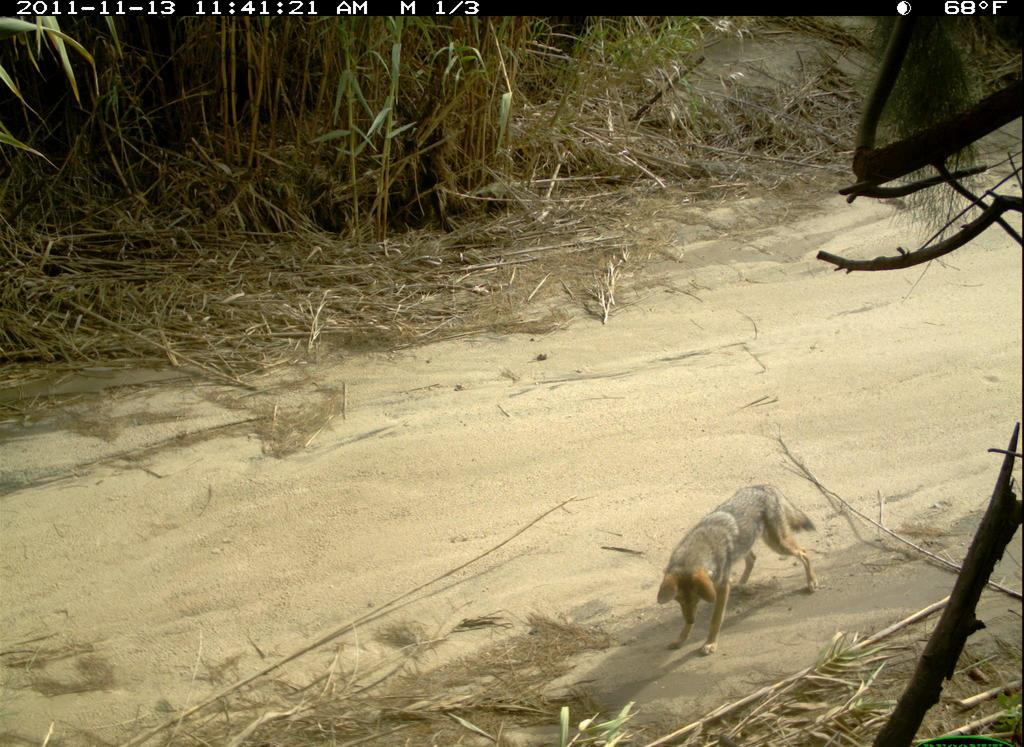coyote: (647, 474, 830, 660)
